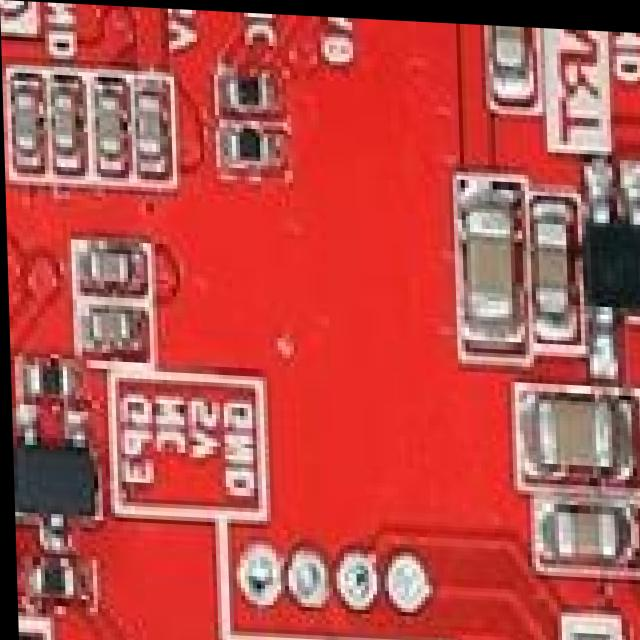IC: (587, 172, 640, 370)
capacitor: (533, 389, 618, 473), (464, 199, 515, 325), (551, 490, 620, 549), (533, 224, 571, 311), (94, 76, 126, 157), (10, 84, 40, 157), (496, 20, 529, 82), (46, 86, 75, 151), (138, 98, 168, 159), (90, 247, 131, 289), (91, 307, 134, 345)
resistor: (24, 361, 73, 399), (225, 73, 270, 111), (227, 121, 269, 159), (37, 565, 66, 602)
transistor: (14, 414, 100, 540)
